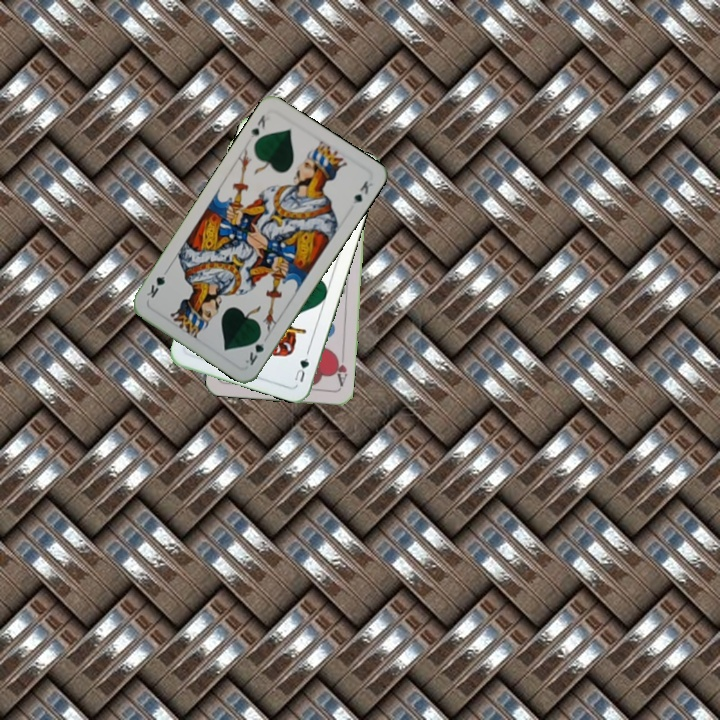GK: (241, 330, 267, 368), (246, 111, 268, 141)
GU: (290, 347, 312, 385)
HA: (331, 350, 350, 390)
